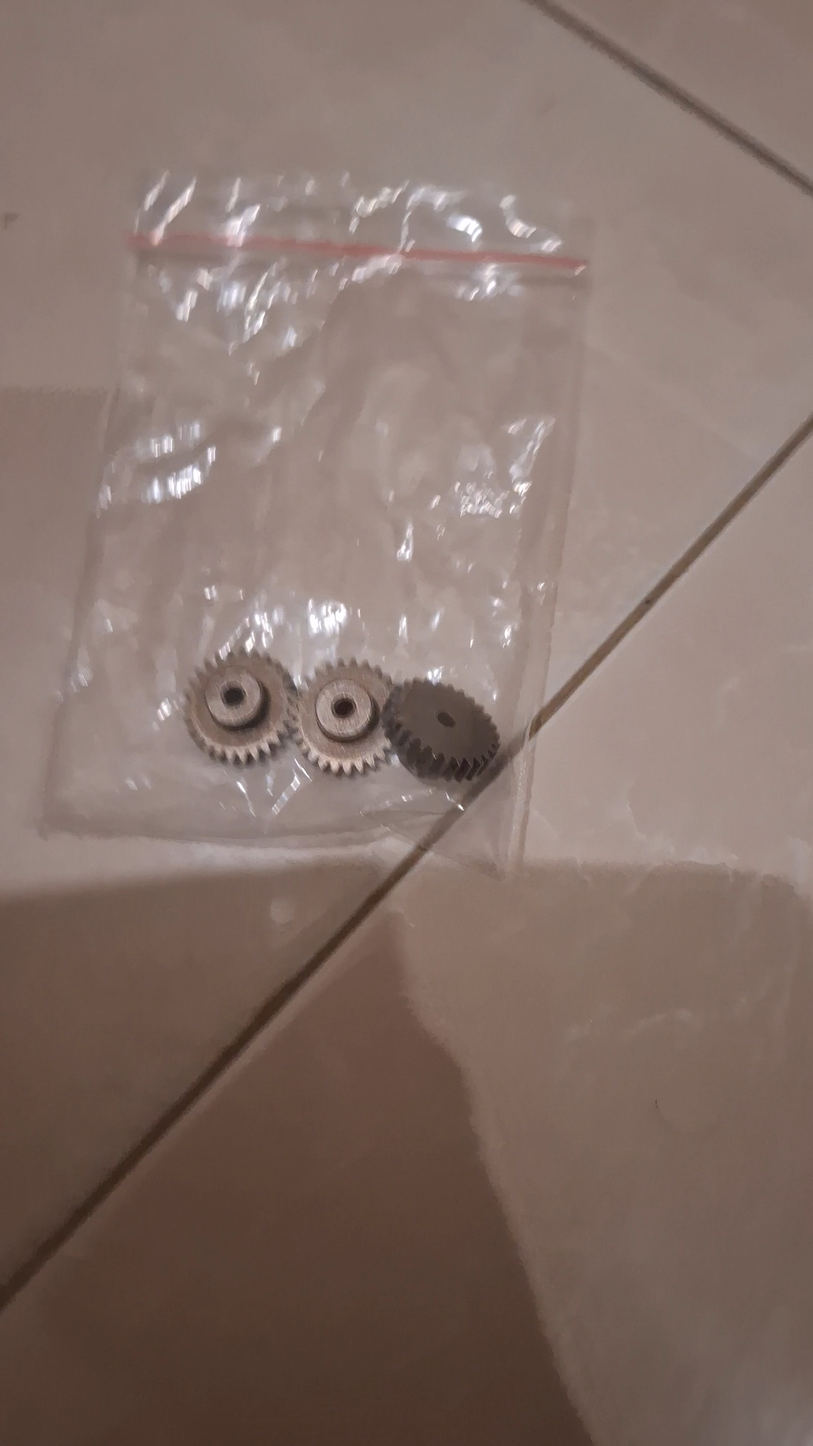spur gear: (180, 647, 299, 766), (379, 674, 502, 784), (292, 657, 401, 775)
